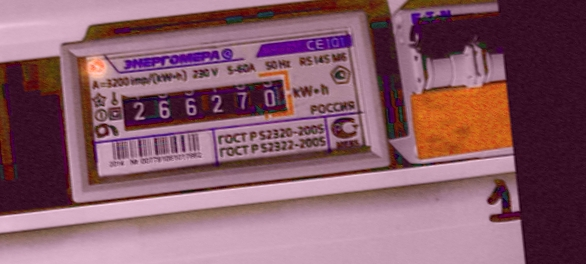0: (264, 85, 278, 107)
2: (133, 97, 149, 120), (212, 90, 226, 113)
6: (159, 97, 174, 118), (185, 94, 200, 114)
7: (236, 88, 252, 110)
screen: (112, 63, 304, 140)
